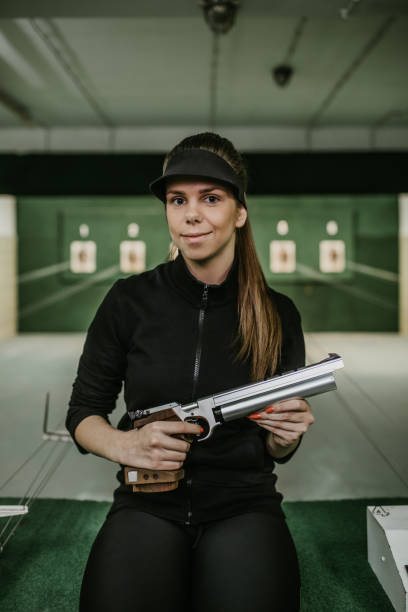gun: (124, 353, 343, 498)
